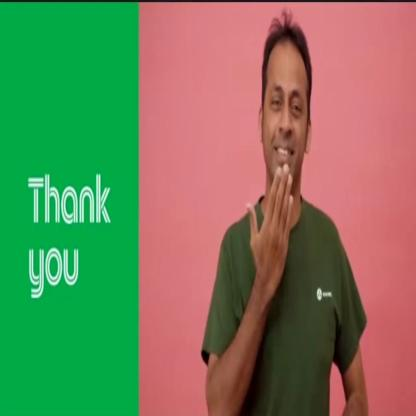ThankYou: (199, 5, 372, 416)
